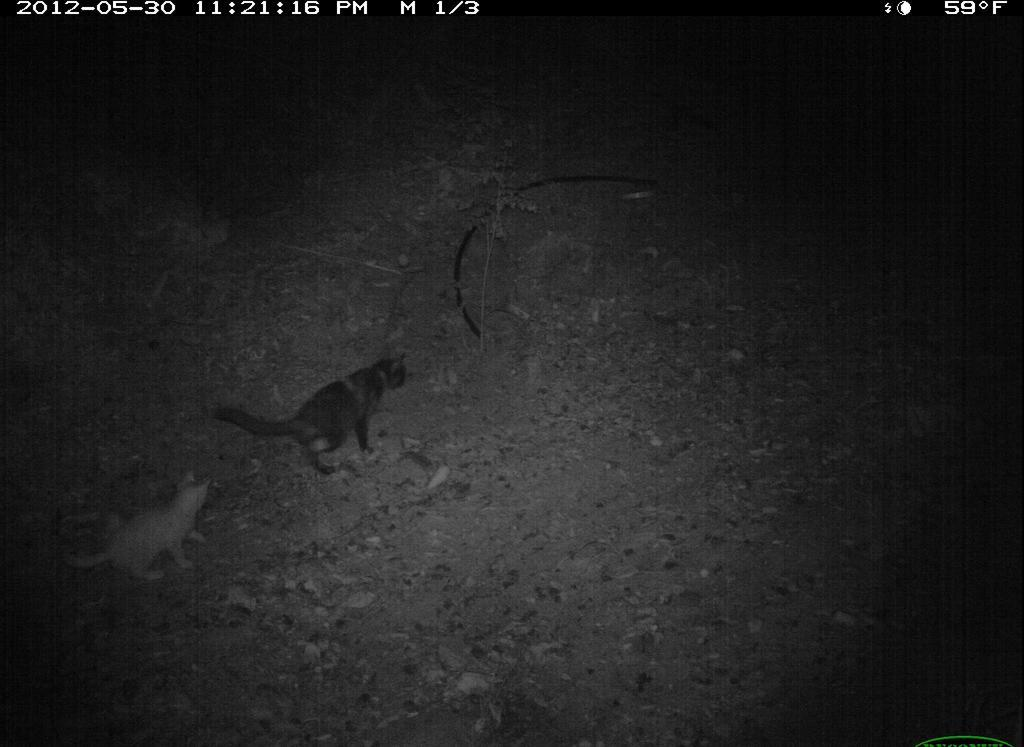cat: (210, 344, 436, 486), (62, 469, 228, 592)
